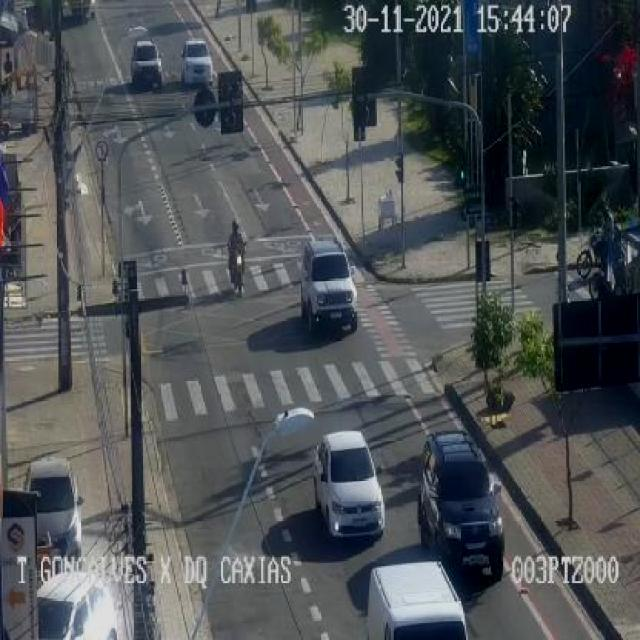Car: (416, 426, 511, 574), (314, 428, 386, 549), (302, 237, 362, 333), (180, 38, 216, 90), (130, 39, 162, 88)
Cycle: (225, 218, 253, 299)
Van: (362, 565, 464, 640)
